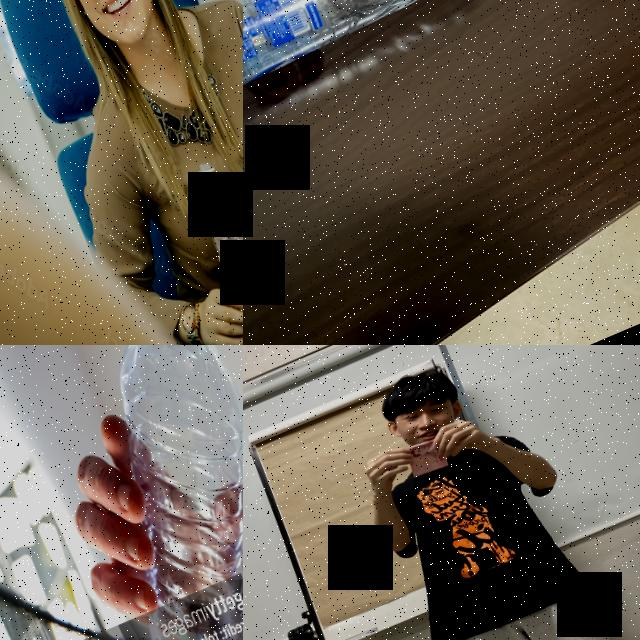bottle: (10, 345, 243, 640), (243, 0, 524, 156), (180, 156, 243, 327)
